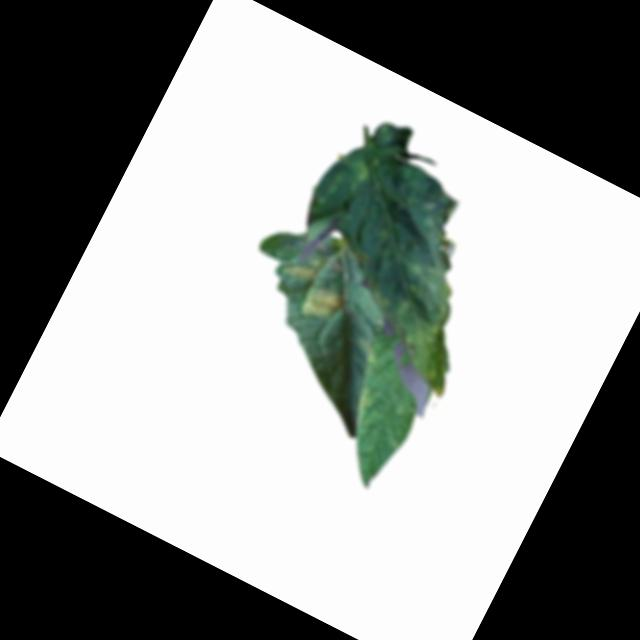Leaf_Mold: (254, 100, 551, 403), (277, 244, 327, 292), (297, 279, 345, 326), (343, 384, 381, 431)
